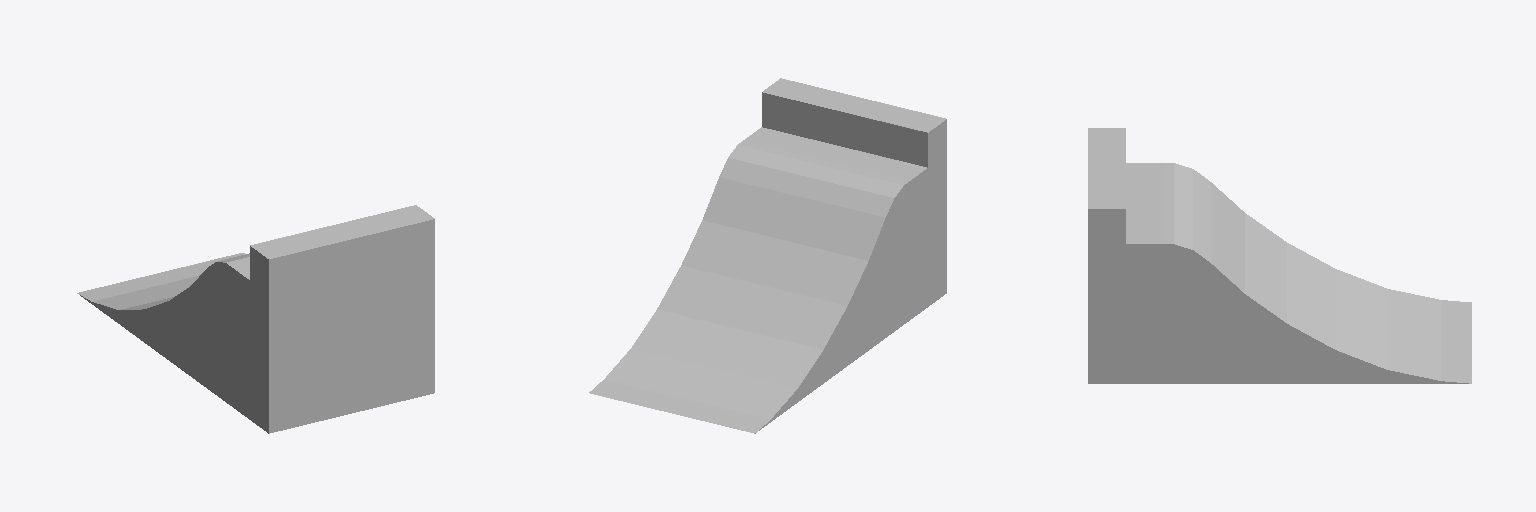
Rendered from Quater_SML_EuroGap_Half.obj.
3 renders of one model, left to right at view 1: azimuth 30°, elevation 25°; view 2: azimuth 150°, elevation 25°; view 3: azimuth 270°, elevation 25°, orthographic.
Visible parts, largest first — view 1: Quater_SML_EuroGap_Half; view 2: Quater_SML_EuroGap_Half; view 3: Quater_SML_EuroGap_Half.
Boxes of the visible parts, x1=… form: Quater_SML_EuroGap_Half: x1=77, y1=205, x2=434, y2=433; Quater_SML_EuroGap_Half: x1=589, y1=78, x2=946, y2=433; Quater_SML_EuroGap_Half: x1=1088, y1=128, x2=1471, y2=383.
Bounding box in the file's own units: 5 × 5 × 10.